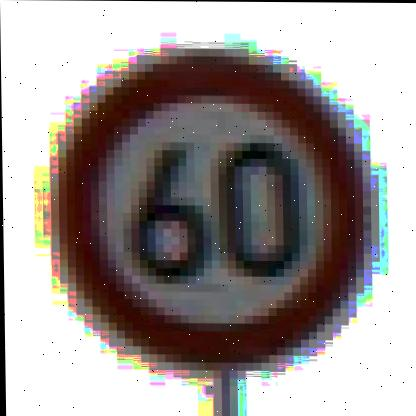Speed Limit -60-: (42, 42, 382, 374)
